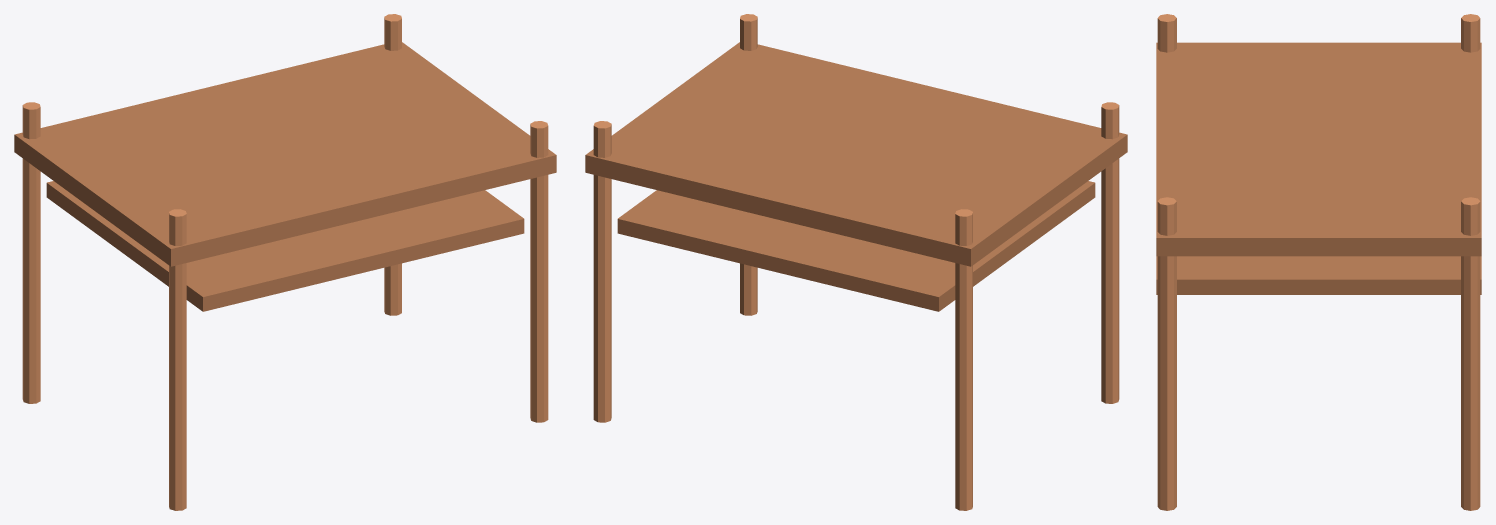
3 renders of one model, left to right at view 1: azimuth 30°, elevation 25°; view 2: azimuth 150°, elevation 25°; view 3: azimuth 270°, elevation 25°, orthographic. The views are drawn at different scales.
Visible parts, largest first — view 1: worldgen; view 2: worldgen; view 3: worldgen.
Part boxes in pixels (x1,y1,x2,y2): worldgen: [14, 14, 556, 510]; worldgen: [585, 14, 1127, 510]; worldgen: [1156, 14, 1481, 510].
Bounding box in the file's own units: 57.6 × 42 × 40.5.
